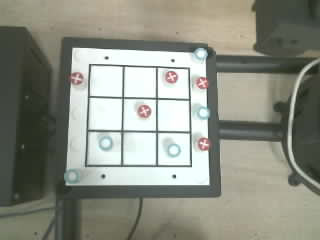blue circle: (64, 169, 79, 183), (99, 136, 112, 150), (197, 106, 210, 119), (194, 48, 208, 60), (167, 144, 180, 156)
board: (65, 48, 213, 185)
cells: (87, 132, 121, 164), (158, 133, 190, 165), (89, 98, 122, 129), (123, 133, 155, 164), (124, 99, 155, 130), (90, 66, 122, 96), (158, 68, 189, 98), (124, 67, 155, 97), (158, 100, 189, 130)
grid: (85, 64, 191, 167)
red cross: (137, 104, 151, 117), (70, 72, 83, 85), (198, 138, 211, 151), (165, 71, 178, 83), (196, 77, 208, 88)
